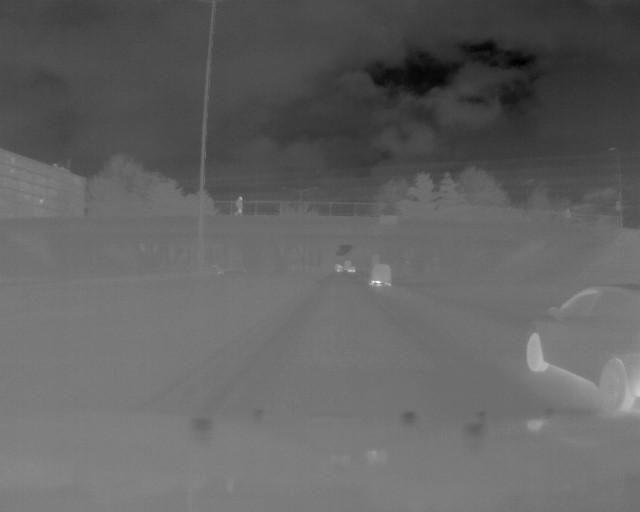car: (523, 264, 640, 408), (363, 262, 393, 289)
person: (229, 195, 246, 218)
